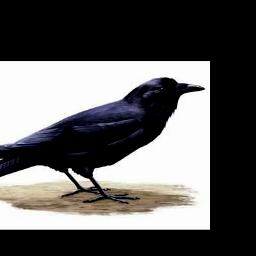Crow: (0, 76, 205, 206)
